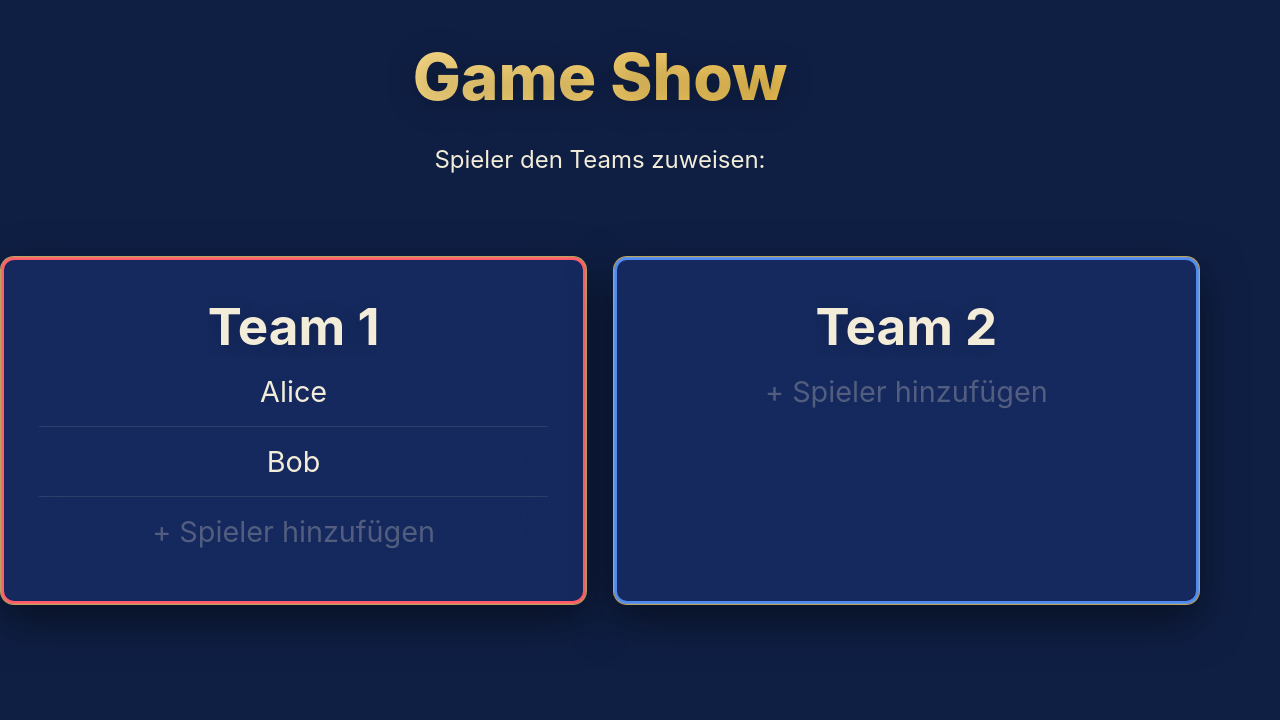
Test case: HomeScreen - Gaps › manual mode: clearing a member's text removes it
The image size is (1280, 720).
Clear the field showing "Alice": (294, 392) x1=39 y1=363 x2=548 y2=420
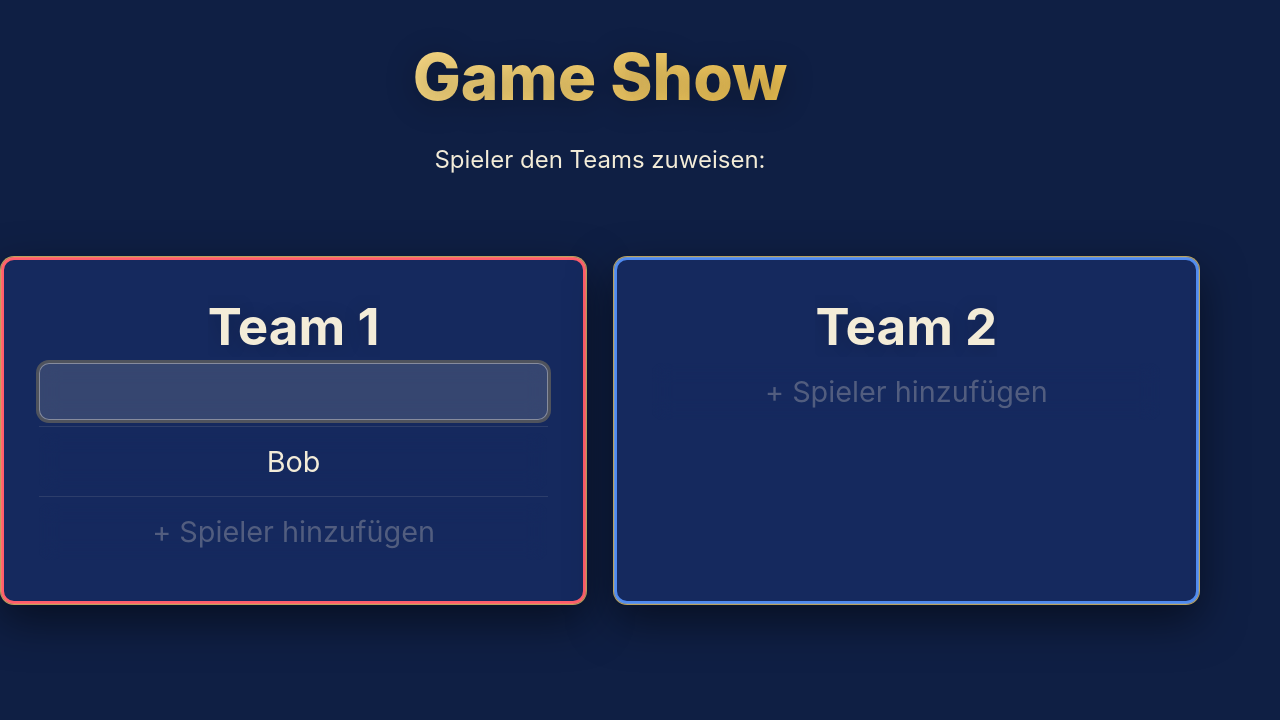
Press Enter
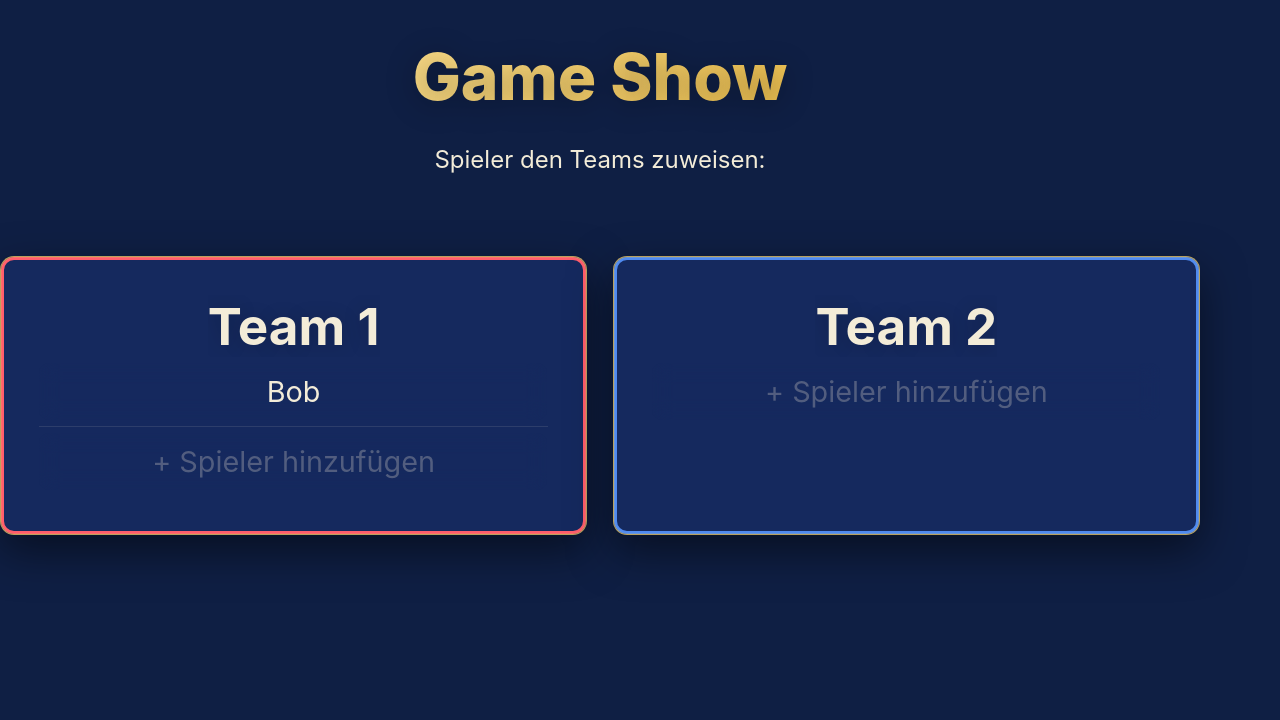
Check: the field showing "Alice" is not shown
Check: the field showing "Bob" is shown, box x1=39 y1=363 x2=548 y2=420
